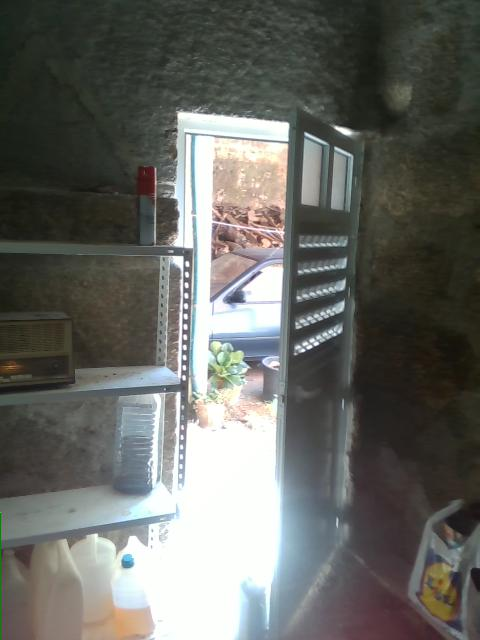semi_door: (171, 103, 367, 639)
